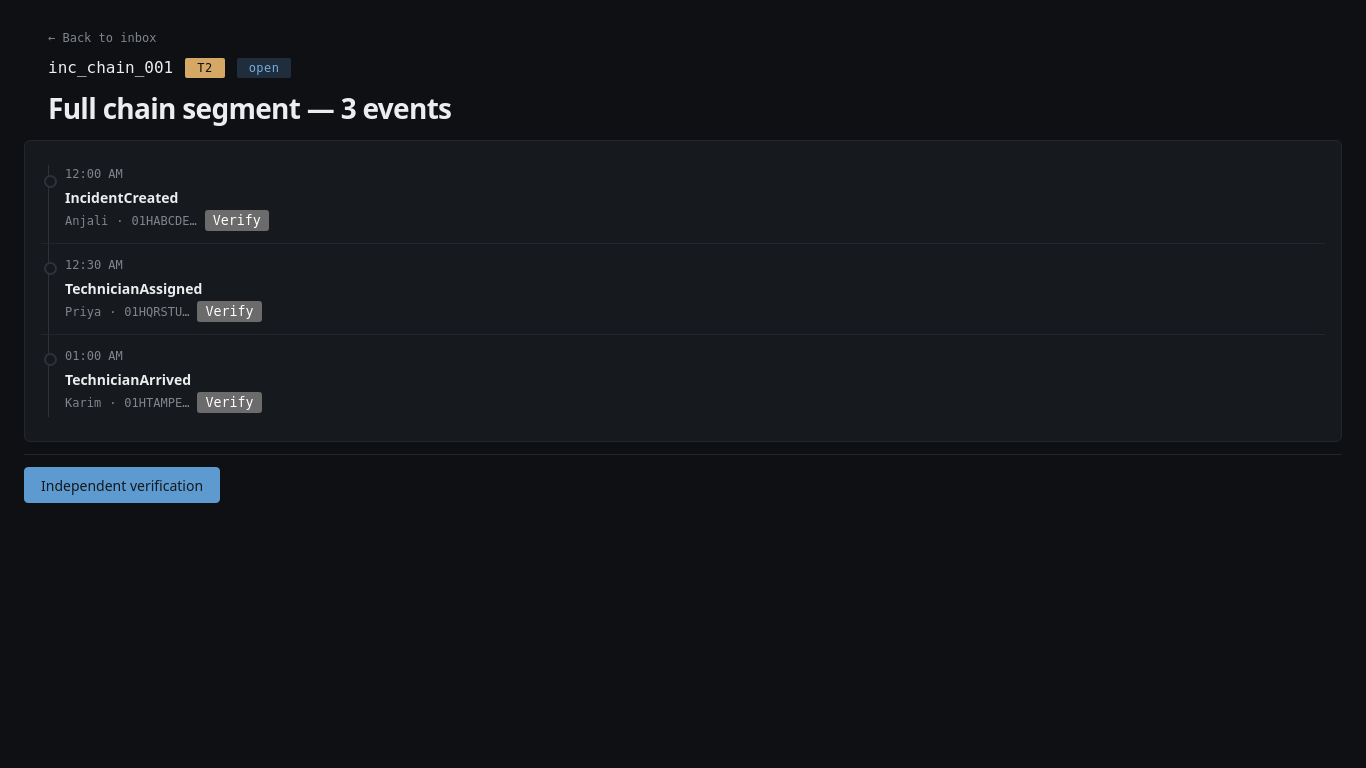
Scenario: FE-B6 IncidentChainSegmentPage (per-incident-chain-segment.md) › full-segment verification marks the page anomaly when any row fails
The width and height of the screenshot is (1366, 768).
Click the button with test id "chain-segment-verify-full": (122, 485) [24,467,220,503]
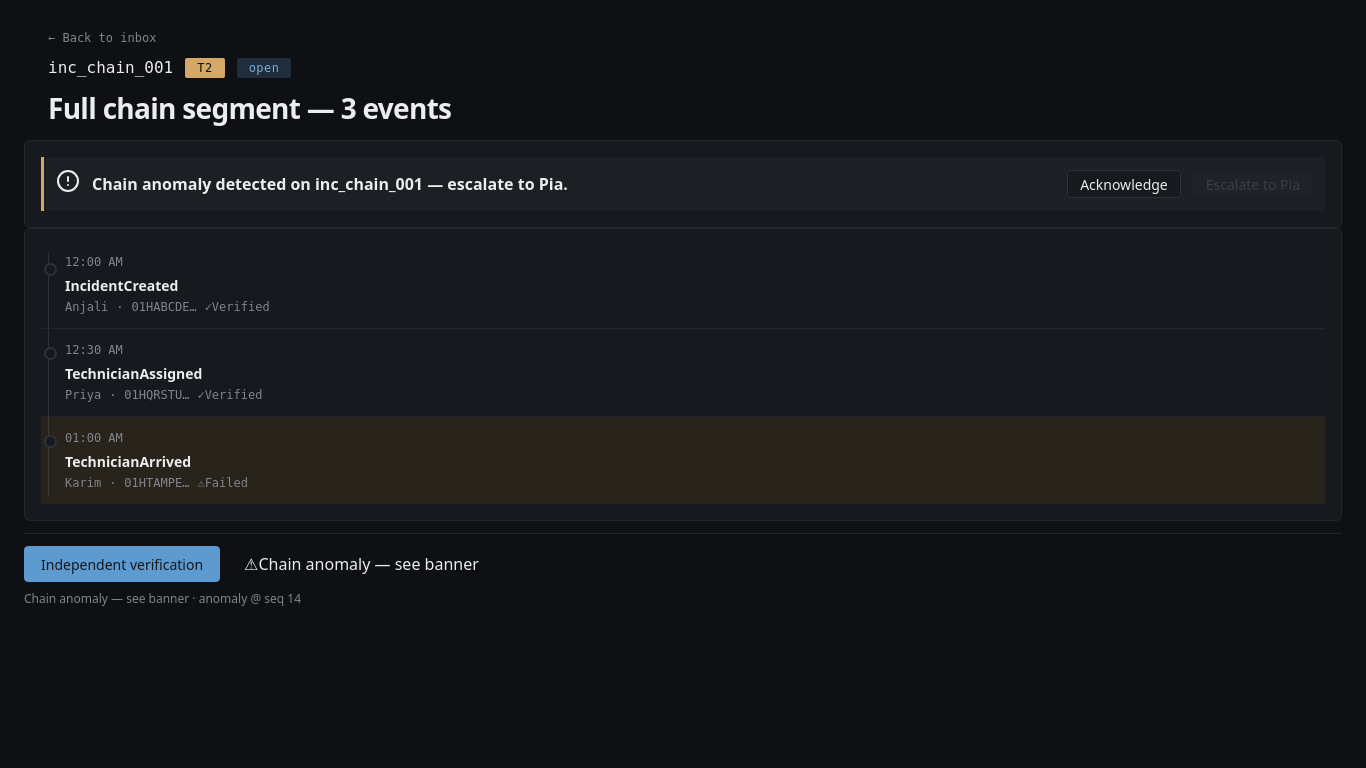
Expected: the element with test id "chain-segment-full-anomaly" is shown, [244,552,479,576]
Expected: the element with test id "chain-anomaly-banner" is shown, [41,157,1325,211]
# Acknowledge hides the banner.
Click the button with test id "chain-anomaly-acknowledge": (1124, 184) [1067,170,1181,198]
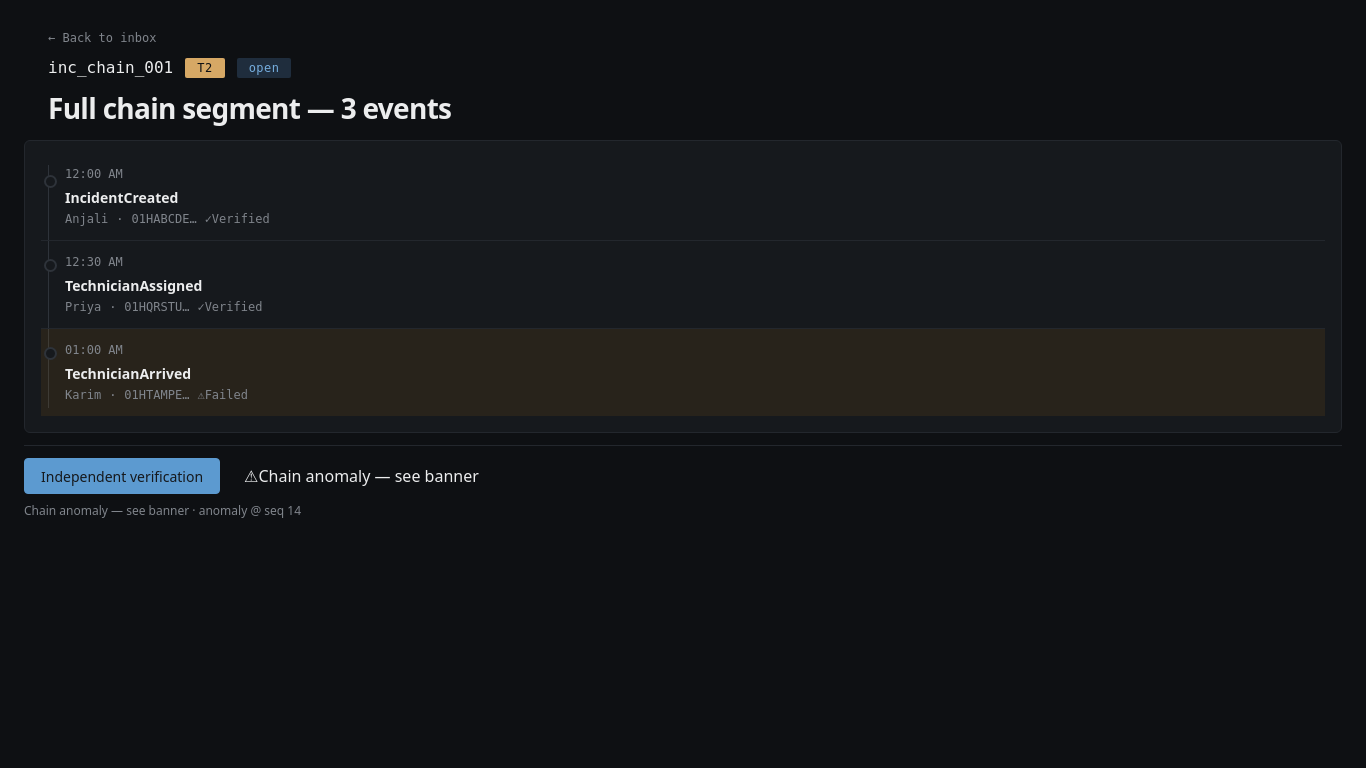
Expected: the element with test id "chain-anomaly-banner" is gone
